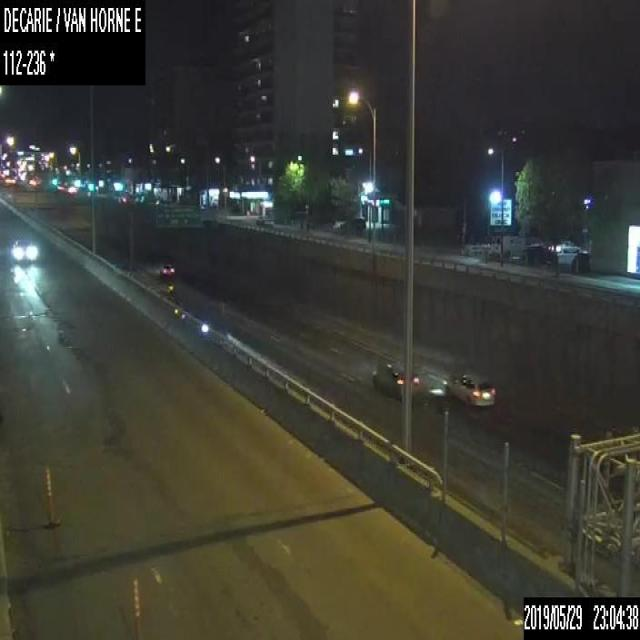construction: (45, 467, 57, 529), (132, 580, 141, 639)
vehicle: (371, 361, 419, 399), (441, 369, 493, 404), (10, 235, 38, 262), (523, 243, 555, 264), (548, 239, 579, 252), (157, 260, 175, 277)
